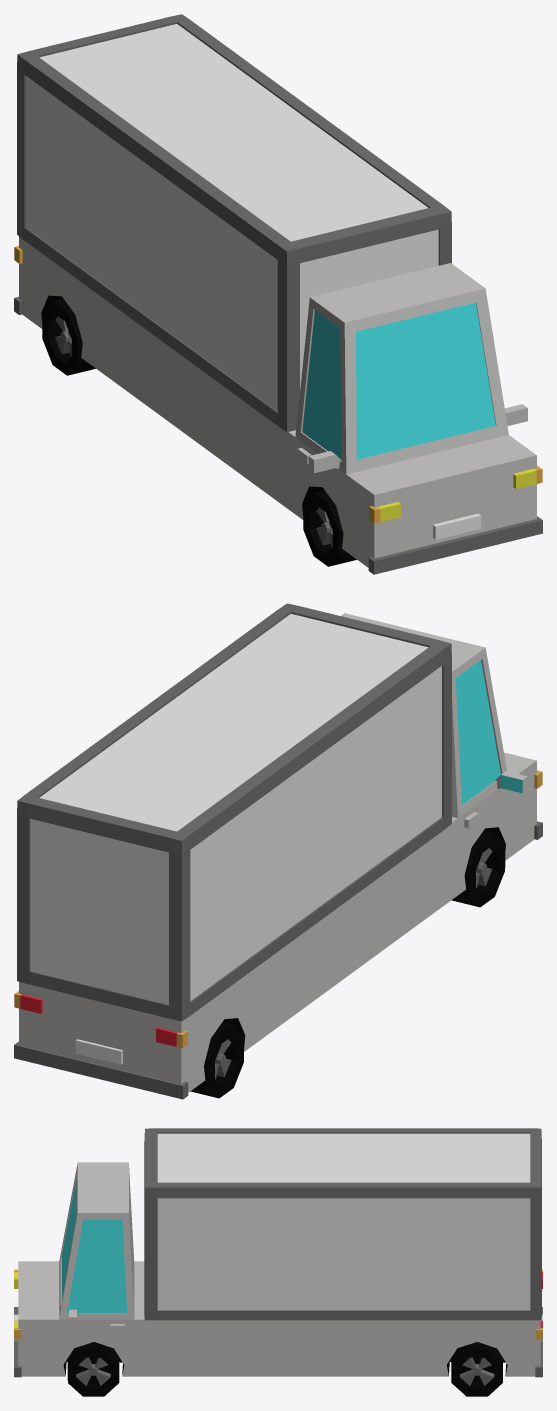
The model's file is Car7.fbx.
The picture shows the model from 3 angles, top to bottom: view 1: azimuth 30°, elevation 25°; view 2: azimuth 150°, elevation 25°; view 3: azimuth 270°, elevation 25°; orthographic projection. The views are drawn at different scales.
Visible parts, largest first — view 1: Car Body.007, Front Bumper.007, Rear Right Wheel.007, Front Right Wheel.007, Head Lights.007, Door Mirrors.007, Front License Plate.007; view 2: Car Body.007, Rear Bumper.007, Front Right Wheel.007, Rear Right Wheel.007, Break Lights.007, Rear License Plate.007; view 3: Car Body.007, Front Left Wheel.007, Rear Left Wheel.007.
Part boxes in pixels (x1,y1,x2,y2): Car Body.007: (17,14,536,567); Front Bumper.007: (368,516,542,574); Rear Right Wheel.007: (42,299,95,375); Front Right Wheel.007: (303,490,356,566); Head Lights.007: (369,465,542,523); Door Mirrors.007: (308,404,527,473); Front License Plate.007: (433,513,481,539); Car Body.007: (17,603,536,1092); Rear Bumper.007: (14,1041,188,1099); Front Right Wheel.007: (451,830,505,907); Rear Right Wheel.007: (190,1021,244,1098); Break Lights.007: (14,991,187,1048); Rear License Plate.007: (75,1039,122,1064); Car Body.007: (18,1128,541,1376); Front Left Wheel.007: (67,1342,119,1396); Rear Left Wheel.007: (451,1342,502,1396).
Size of the model in its own units: 409 by 520 by 1192.
